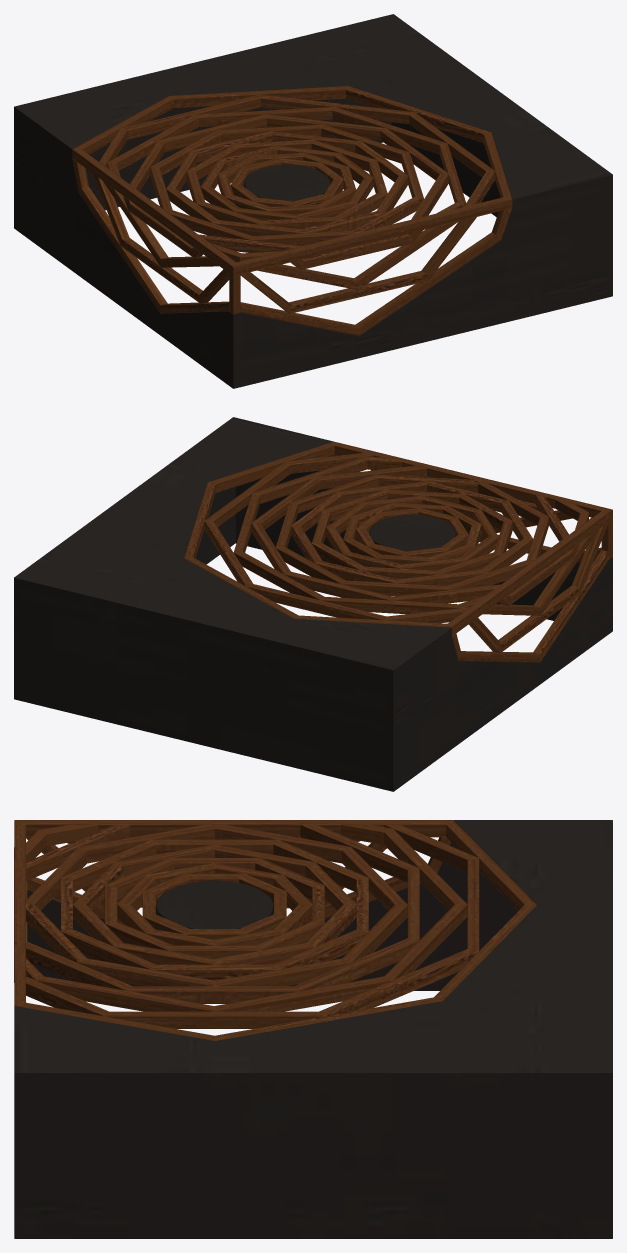
The model's file is modern_coffee_table_02.glb.
3 views of the same model, one above another, from view 1: azimuth 30°, elevation 25°; view 2: azimuth 150°, elevation 25°; view 3: azimuth 270°, elevation 25° (orthographic). The views are drawn at different scales.
Visible parts, largest first — view 1: modern_coffee_table_02; view 2: modern_coffee_table_02; view 3: modern_coffee_table_02.
Part boxes in pixels (bbox=[...]): modern_coffee_table_02: bbox=[14, 14, 612, 388]; modern_coffee_table_02: bbox=[14, 417, 612, 791]; modern_coffee_table_02: bbox=[14, 820, 612, 1238].
Bounding box in the file's own units: 1.2 × 0.3692 × 1.2.
2 materials, 2 textured.
